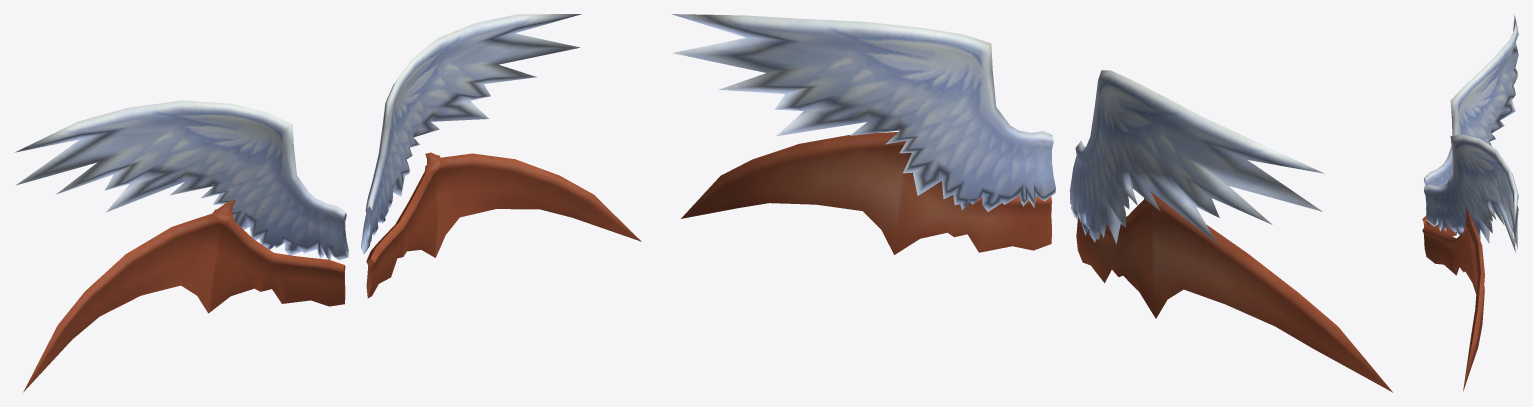
File: wings-5_kimeramon.blend.obj
3 views of the same model, side by side, from view 1: azimuth 30°, elevation 25°; view 2: azimuth 150°, elevation 25°; view 3: azimuth 270°, elevation 25° (orthographic). The views are drawn at different scales.
Visible parts, largest first — view 1: wings-5_kimeramon.blend_nifid_165-matrix_Object01-lib; view 2: wings-5_kimeramon.blend_nifid_165-matrix_Object01-lib; view 3: wings-5_kimeramon.blend_nifid_165-matrix_Object01-lib.
Part boxes in pixels (<box>): wings-5_kimeramon.blend_nifid_165-matrix_Object01-lib: <box>15,14,641,392</box>; wings-5_kimeramon.blend_nifid_165-matrix_Object01-lib: <box>671,14,1392,392</box>; wings-5_kimeramon.blend_nifid_165-matrix_Object01-lib: <box>1422,15,1518,391</box>.
Size of the model in its own units: 4.87 by 1.74 by 0.8665.
1 material, 1 textured.
